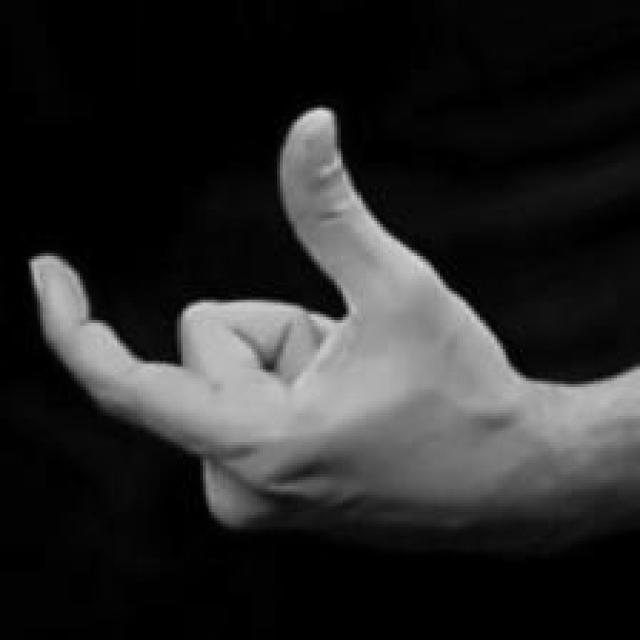U: (22, 101, 534, 549)
